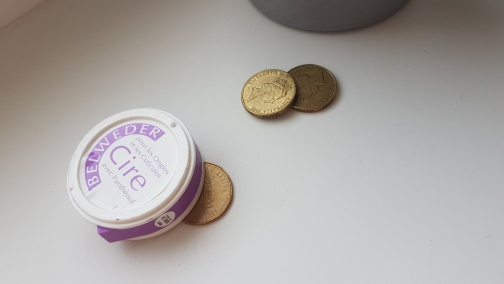coin: (177, 161, 234, 226), (241, 69, 296, 118), (286, 64, 338, 113)
